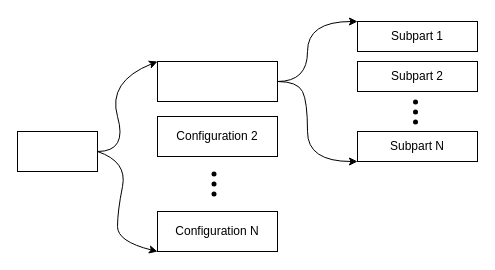
The diagram is 495 pixels wide and 270 high, and some of its shapes have lost their labels. The centre of each missing label's shape, as x and y in pixels:
"Configuration 1" goes at pixel 217 81.
"Course" goes at pixel 57 151.
